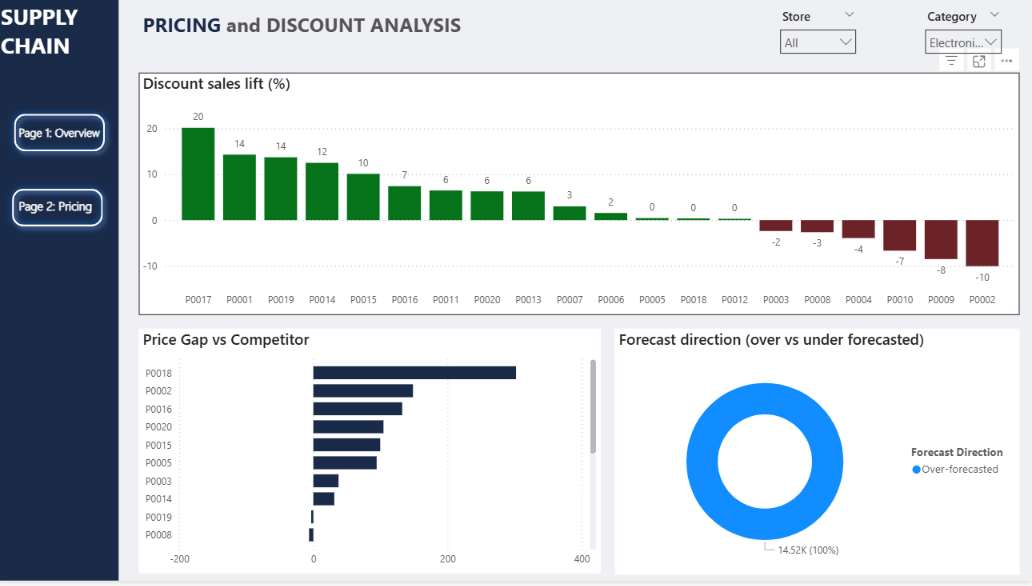

What the dashboard file says about the page in this screenshot:
{"tool":"powerbi","page":{"name":"Page 2","canvas":[1280,720],"ordinal":1},"visuals":[{"type":"clusteredColumnChart","title":"Discount sales lift (%)","fields":{"Category":["Cleaned_data1.Product ID"],"Y":["Cleaned_data1.Sales Lift %"]},"box":[175,92.5,1087.5,298.8],"z":0},{"type":"shape","box":[0,0,150.6,719.8],"z":1000},{"type":"actionButton","box":[11.8,134.5,130,64.1],"z":2000},{"type":"textbox","box":[0,0,150,92.5],"z":3000},{"type":"textbox","box":[175,12.5,423.8,80],"z":4000},{"type":"slicer","fields":{"Values":["Cleaned_data1.Store ID"]},"box":[956.8,12.3,112.3,66.7],"z":5000},{"type":"slicer","fields":{"Values":["Cleaned_data1.Category"]},"box":[1136.2,12.5,112.5,66.2],"z":6000},{"type":"clusteredBarChart","title":"Price Gap vs Competitor","fields":{"Y":["Sum(Cleaned_data1.Price Gap)"],"Category":["Cleaned_data1.Product ID"]},"box":[175,408.8,570,302.5],"z":7000},{"type":"donutChart","title":"Forecast direction (over vs under forecasted)","fields":{"Category":["Cleaned_data1.Forecast Direction"],"Y":["CountNonNull(Cleaned_data1.Product ID)"]},"box":[762.5,408.8,500,303.8],"z":8000},{"type":"textbox","box":[22.6,151.9,131.6,36.1],"z":9000},{"type":"textbox","box":[22.6,242.6,101.3,33.5],"z":10000},{"type":"actionButton","box":[10.3,227.4,130,64.2],"z":11000}]}

Visuals, with their boxes on the page's 1280x720 design canvas (x1, y1, x2, y2). These are canvas units, not pixel positions in the 1032x586 screenshot, which may show the page scaled, cropped or inside an application window:
"Discount sales lift (%)" clusteredColumnChart: bbox(175, 92, 1262, 391)
shape: bbox(0, 0, 151, 720)
actionButton: bbox(12, 134, 142, 199)
textbox: bbox(0, 0, 150, 92)
textbox: bbox(175, 12, 599, 92)
slicer - Cleaned_data1.Store ID: bbox(957, 12, 1069, 79)
slicer - Cleaned_data1.Category: bbox(1136, 12, 1249, 79)
"Price Gap vs Competitor" clusteredBarChart: bbox(175, 409, 745, 711)
"Forecast direction (over vs under forecasted)" donutChart: bbox(762, 409, 1262, 713)
textbox: bbox(23, 152, 154, 188)
textbox: bbox(23, 243, 124, 276)
actionButton: bbox(10, 227, 140, 292)
